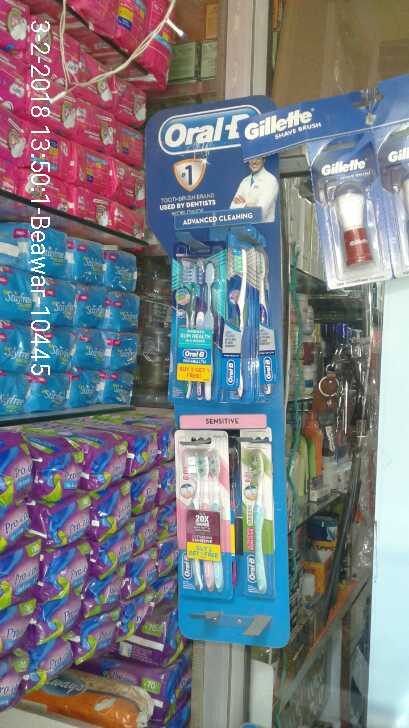beauty: (318, 139, 385, 281)
pharmacy: (173, 429, 232, 602), (168, 243, 222, 403), (241, 425, 275, 597), (226, 228, 254, 404)
